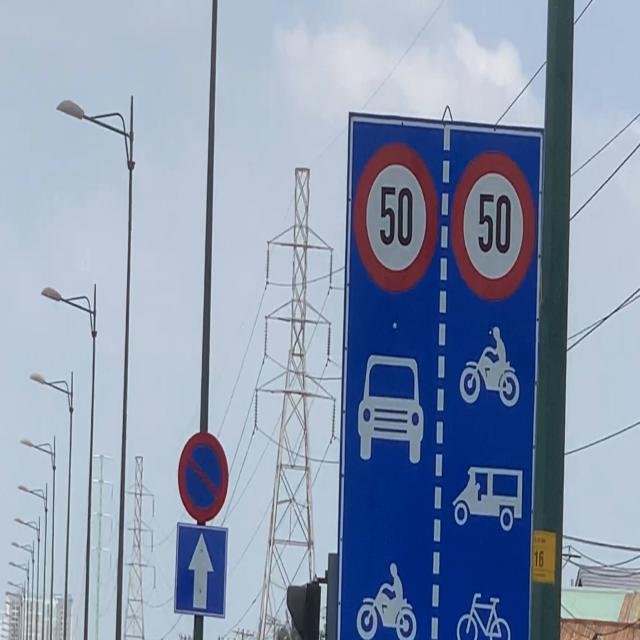Cam do: (176, 431, 229, 521)
Chi dan: (173, 525, 226, 619)
Toc do toi da: (451, 150, 537, 302), (353, 143, 437, 294)
